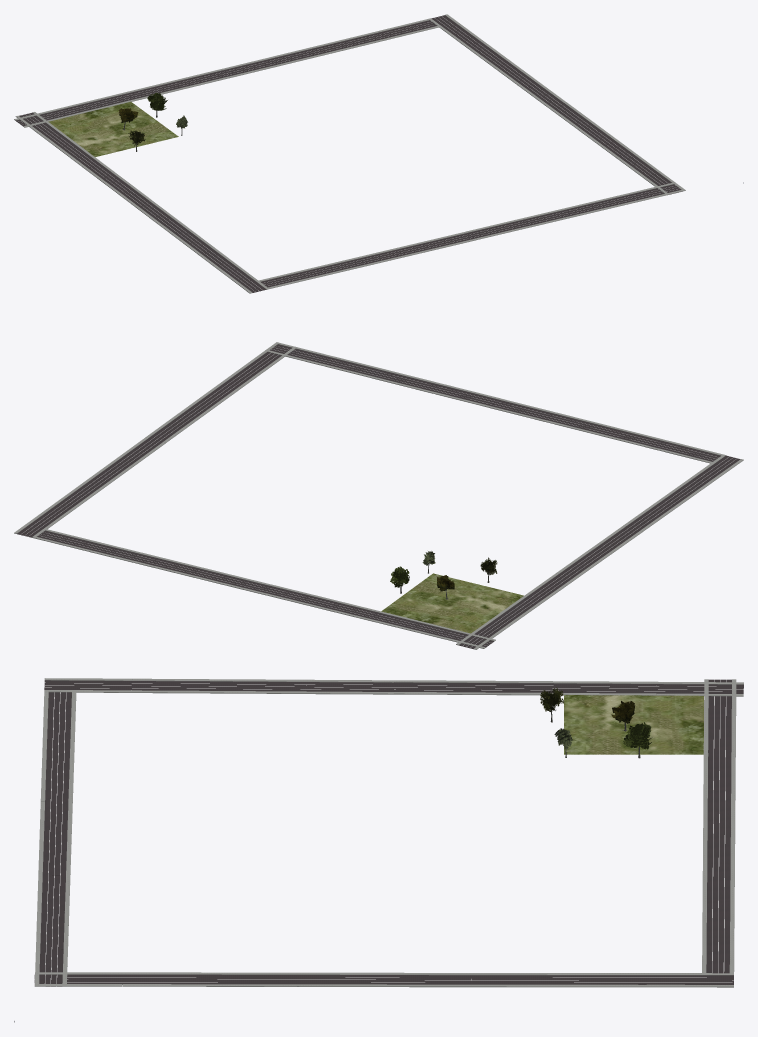
3 renders of one model, top to bottom at view 1: azimuth 30°, elevation 25°; view 2: azimuth 150°, elevation 25°; view 3: azimuth 270°, elevation 25°, orthographic. The views are drawn at different scales.
Visible parts, largest first — view 1: Geom3D; view 2: Geom3D; view 3: Geom3D (×37).
Part boxes in pixels (box(x1,y1,x2,y2)): Geom3D: box(48, 102, 178, 157); Geom3D: box(381, 573, 523, 633); Geom3D (×37): box(34, 678, 743, 987).
Bounding box in the file's own units: 570 × 26.64 × 512.
Materials: 32 (10 with a texture image).
